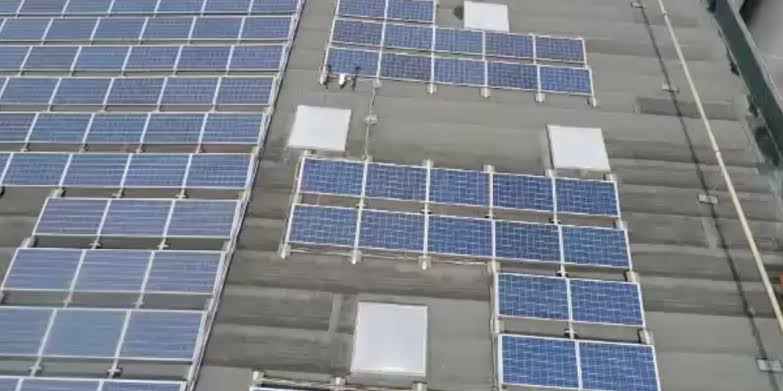Solar Panel: (2, 1, 294, 40), (1, 309, 210, 358), (1, 151, 257, 190), (5, 249, 226, 292), (1, 109, 268, 144), (1, 74, 278, 107), (34, 197, 242, 238), (1, 44, 287, 73), (500, 345, 653, 383), (286, 229, 626, 244), (497, 282, 639, 316), (298, 180, 615, 194), (332, 1, 436, 33), (321, 66, 592, 77), (330, 36, 585, 45)
